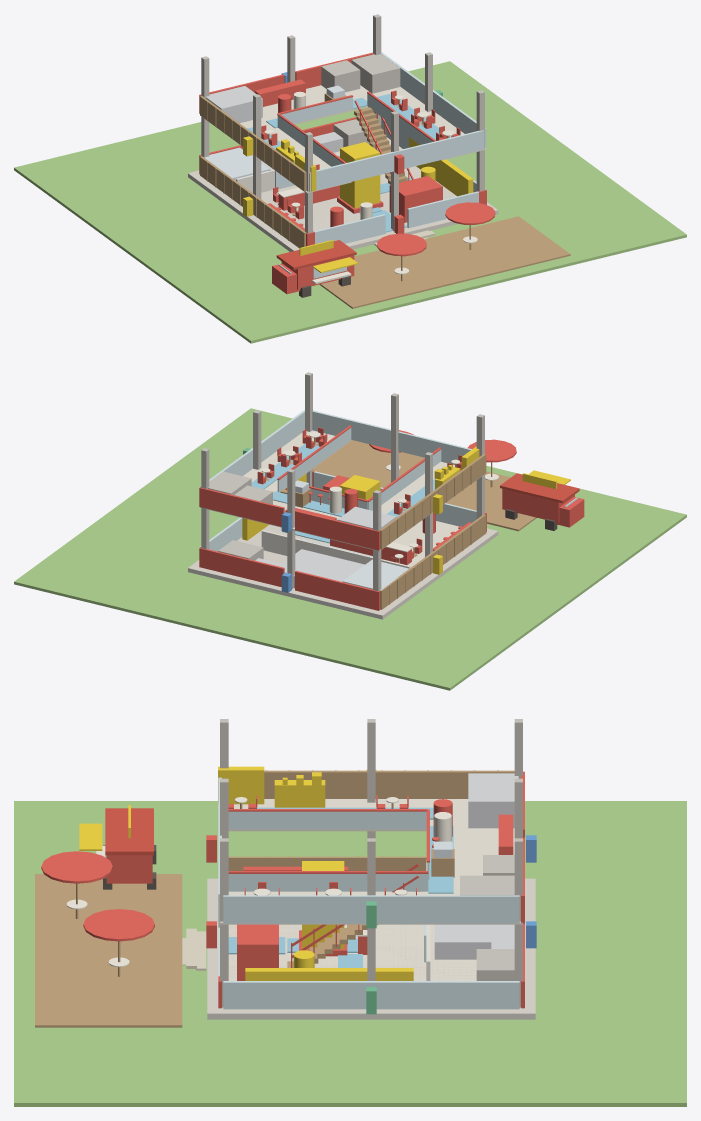
Rendered from all.glb.
3 views of the same model, one above another, from view 1: azimuth 30°, elevation 25°; view 2: azimuth 150°, elevation 25°; view 3: azimuth 270°, elevation 25° (orthographic). The views are drawn at different scales.
Parts seen in each view (by area): view 1: grass, deck, window (×4), wall (×3), plinth, g_para (×2), wc (×2), bigplush, core, floorN, showcase, office (+13 smaller); view 2: grass, wall (×6), window (×4), deck, plinth, kitchen, bohwall, kc_body, kc_roof, floor, freezer, railE (+12 smaller); view 3: grass, deck, window (×2), plinth, wall (×2), floor, railW, g_para (×2), shelf (×2), railE, floorN, office (+15 smaller).
Boxes of the visible parts, x1,y1,x2,y2 form: grass: (14, 61, 686, 343); deck: (319, 216, 570, 308); window (×4): (309, 52, 486, 243); wall (×3): (200, 52, 373, 248); plinth: (188, 137, 498, 251); g_para (×2): (377, 202, 495, 256); wc (×2): (321, 60, 369, 147); bigplush: (340, 142, 380, 208); core: (351, 54, 400, 93); floorN: (200, 85, 410, 139); showcase: (389, 176, 442, 222); office: (205, 86, 262, 122); grass: (14, 408, 686, 690); wall (×6): (199, 454, 486, 610); window (×4): (200, 410, 476, 551); deck: (313, 440, 536, 531); plinth: (188, 524, 498, 619); kitchen: (279, 549, 364, 588); bohwall: (261, 530, 410, 568); kc_body: (502, 488, 574, 522); kc_roof: (500, 473, 579, 503); floor: (271, 520, 458, 589); freezer: (342, 559, 408, 590); railE: (277, 428, 351, 492); grass: (14, 801, 686, 1106); deck: (35, 874, 182, 1027); window (×2): (223, 895, 519, 1009); plinth: (207, 878, 535, 1019); wall (×2): (228, 770, 514, 870); floor: (222, 924, 520, 1008); railW: (228, 811, 426, 829); g_para (×2): (41, 851, 154, 941); shelf (×2): (218, 766, 413, 980); railE: (228, 874, 428, 891); floorN: (428, 799, 522, 924); office: (468, 773, 518, 828).
Bounding box in the file's own units: 34 × 9.3 × 32.
